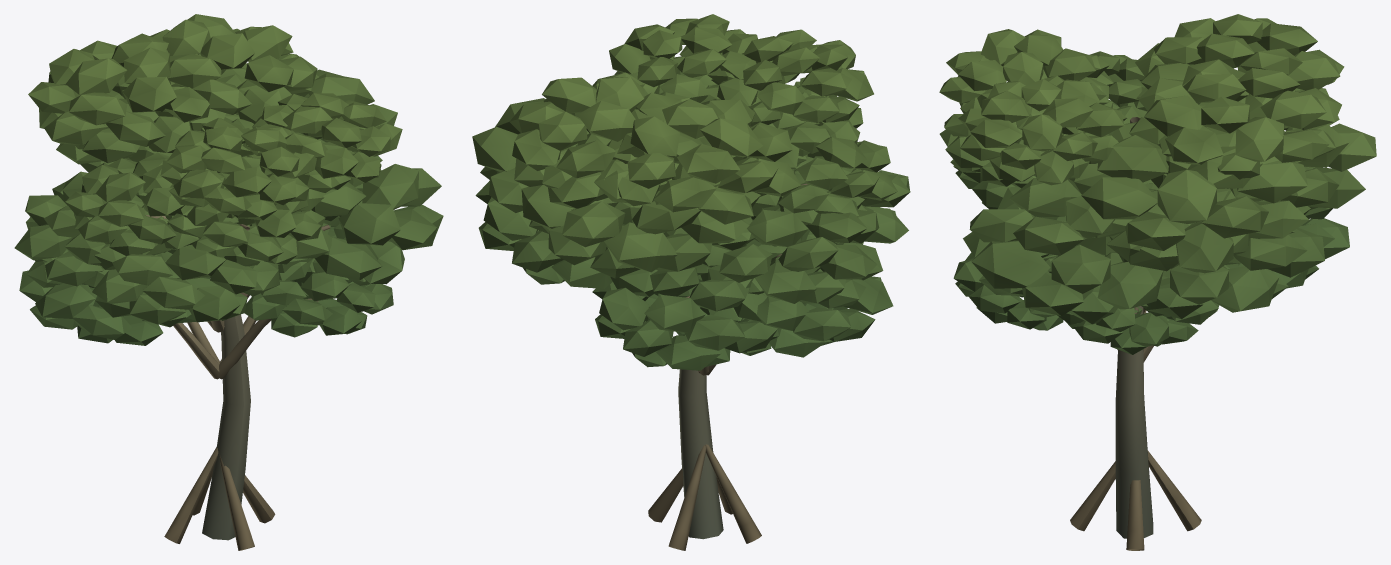
The model's file is climate-tropical.glb.
3 renders of one model, left to right at view 1: azimuth 30°, elevation 25°; view 2: azimuth 150°, elevation 25°; view 3: azimuth 270°, elevation 25°, orthographic. The views are drawn at different scales.
Visible parts, largest first — view 1: tropical-1, tropical-0; view 2: tropical-1, tropical-0; view 3: tropical-1, tropical-0.
Boxes of the visible parts, x1=… form: tropical-1: x1=14, y1=14, x2=443, y2=550; tropical-0: x1=19, y1=33, x2=402, y2=543; tropical-1: x1=472, y1=29, x2=897, y2=550; tropical-0: x1=475, y1=14, x2=910, y2=542; tropical-1: x1=939, y1=29, x2=1349, y2=550; tropical-0: x1=939, y1=14, x2=1376, y2=531.
Size of the model in its own units: 0.8467 by 1 by 0.8245.
